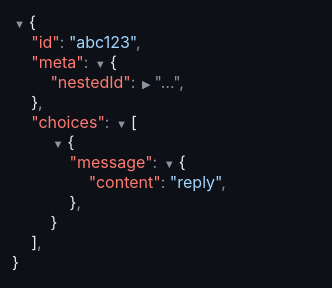
Test case: Response collapse defaults › keeps top-level primitive paths visible while collapsing nested ones
Expected: the text "\"id\"" is shown, [31,32,60,52]
Expected: the text "\"abc123\"" is shown, [69,32,136,52]
Click the button titled "expand": (146, 84) [140,78,152,91]
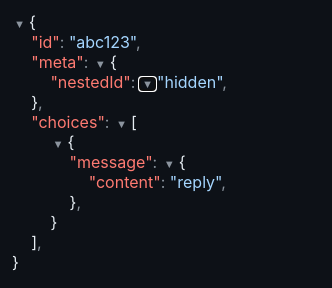
Expected: the text "\"hidden\"" is shown, [157,72,222,92]
